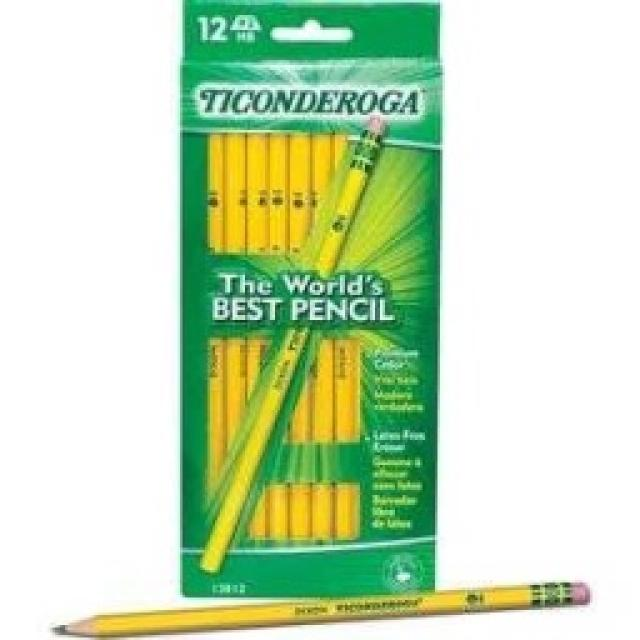pencil: (173, 0, 445, 600)
